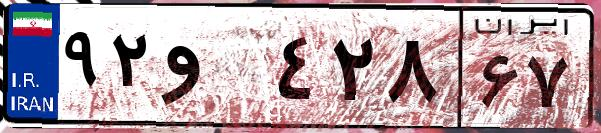2: (330, 28, 385, 110), (110, 28, 158, 98)
4: (270, 28, 330, 110)
6: (475, 38, 525, 113)
7: (525, 38, 570, 115)
8: (385, 28, 445, 110)
9: (57, 26, 110, 100)
و: (158, 20, 270, 120)
